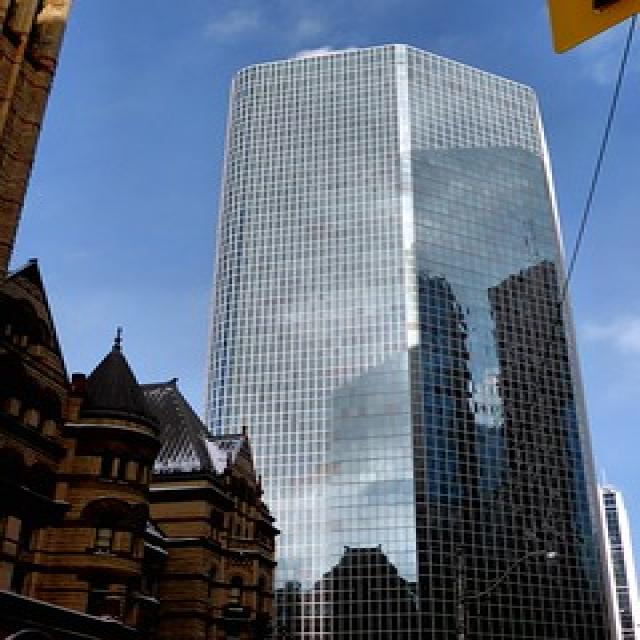building: (187, 38, 624, 640)
